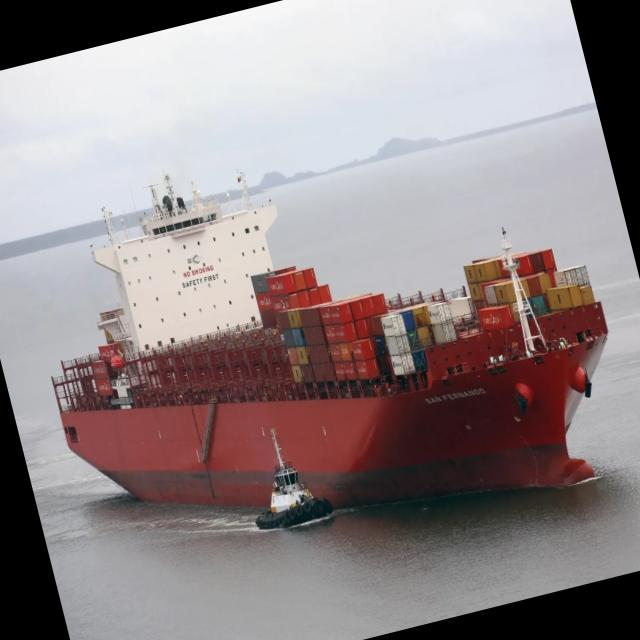Cargo: (52, 173, 607, 507)
Tug: (255, 429, 332, 528)
